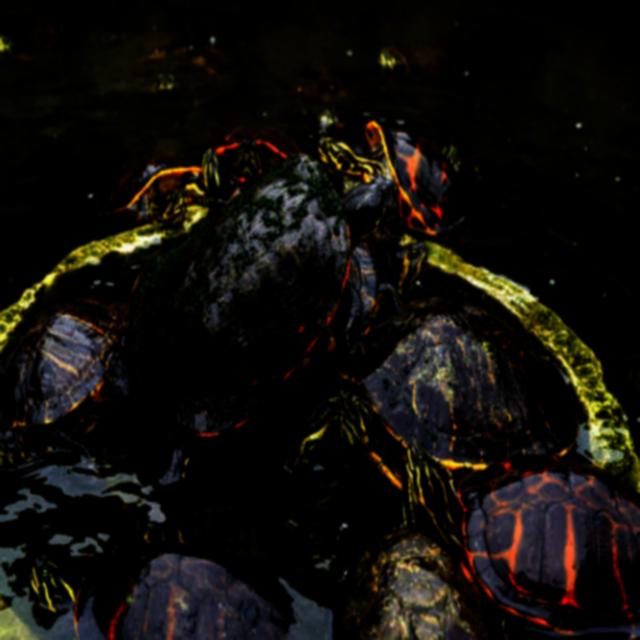terrapin: (114, 154, 360, 432), (354, 292, 588, 560), (457, 452, 640, 640), (67, 518, 316, 640), (0, 278, 130, 488), (364, 88, 502, 252), (330, 512, 499, 640), (129, 1, 262, 124), (211, 98, 306, 214), (100, 140, 201, 233), (367, 18, 480, 96), (405, 438, 465, 564), (282, 400, 359, 478), (22, 543, 83, 622), (338, 266, 382, 374), (330, 362, 376, 450), (340, 166, 394, 235), (381, 237, 438, 295), (198, 139, 248, 198), (312, 120, 374, 167), (0, 408, 42, 472), (228, 120, 273, 178), (154, 189, 198, 237)
